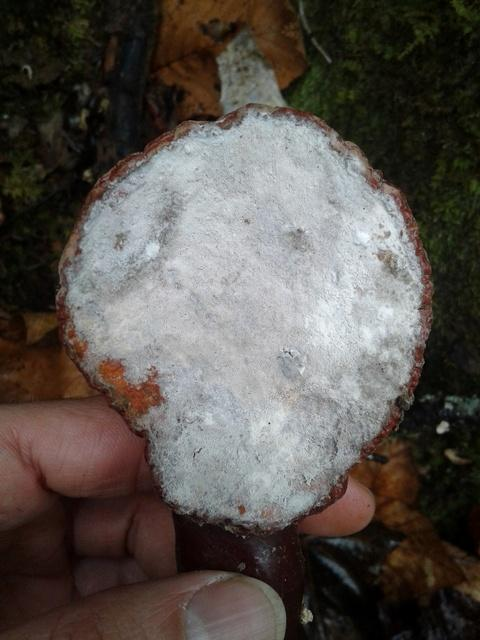Non-edible Mushroom: (60, 106, 456, 539)
